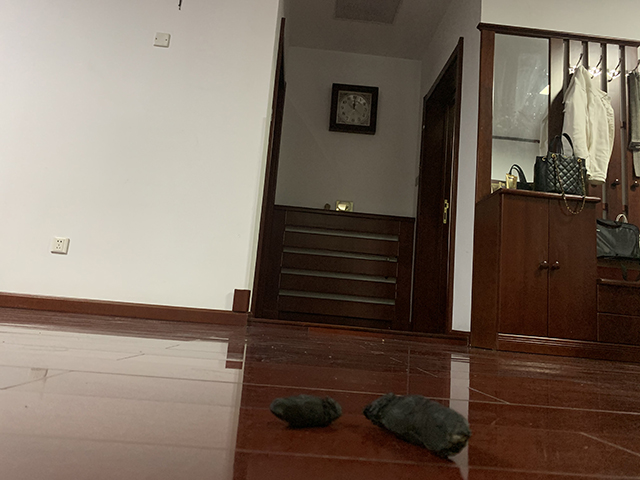cabinet: (467, 187, 640, 365)
feces: (361, 391, 473, 459), (268, 392, 343, 427)
